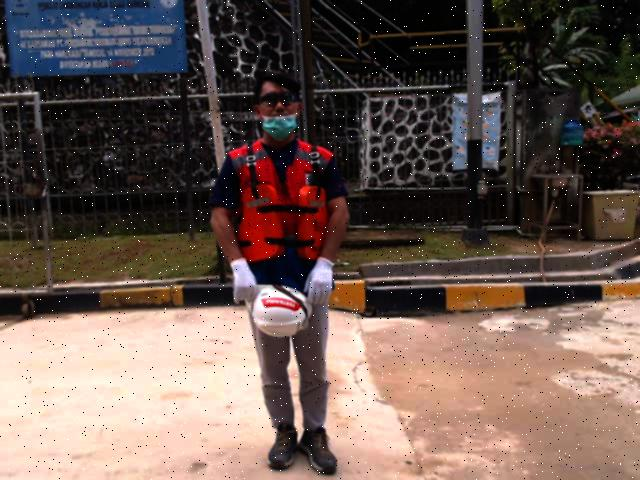glasses: (260, 93, 297, 105)
gloves: (230, 258, 257, 305), (306, 259, 333, 305)
helmet: (253, 284, 310, 338)
mask: (263, 116, 297, 140)
safety-shoes: (299, 427, 336, 474), (267, 422, 299, 469)
vest: (238, 188, 323, 259)
